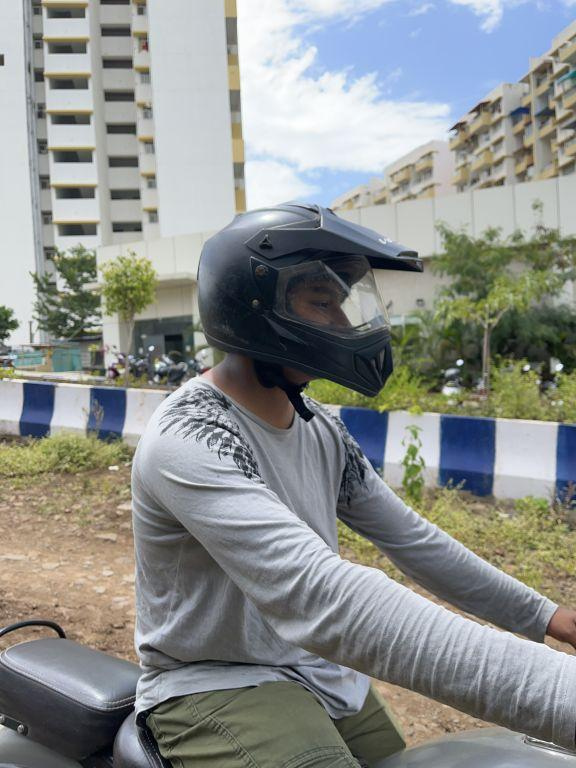helmet: (184, 182, 438, 423)
